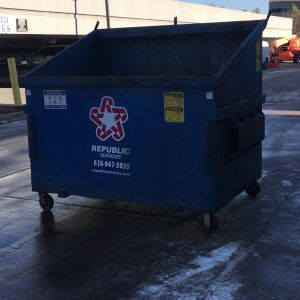Dumpster: (13, 7, 276, 244)
